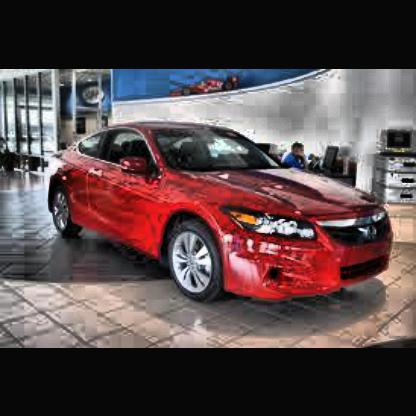Honda Accord Coupe 2012: (50, 124, 397, 303)
